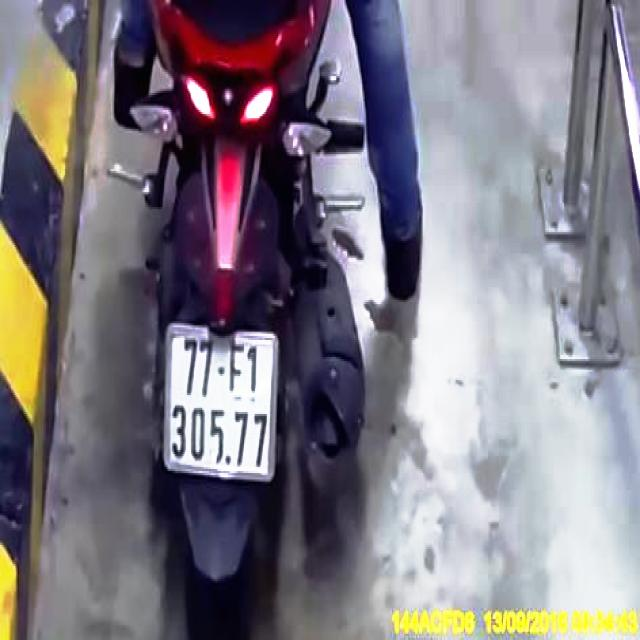license_plate: (166, 327, 277, 478)
